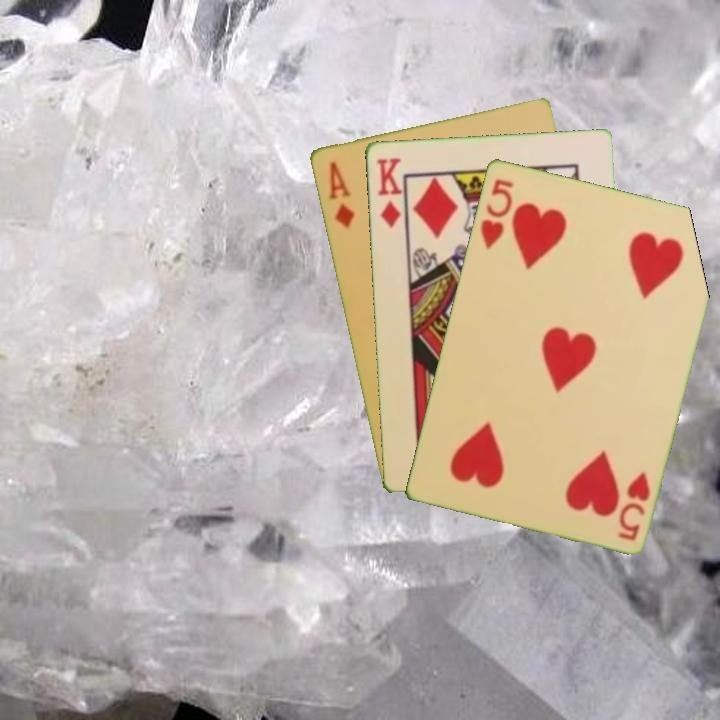5h: (476, 175, 517, 252), (613, 467, 653, 543)
Ad: (324, 157, 358, 231)
Kd: (372, 154, 404, 230)
